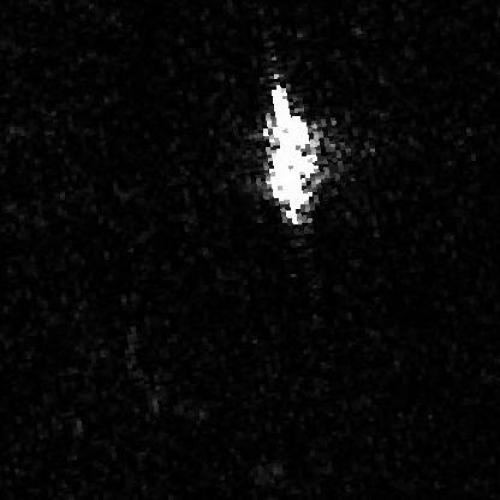ship: (263, 74, 321, 227)
